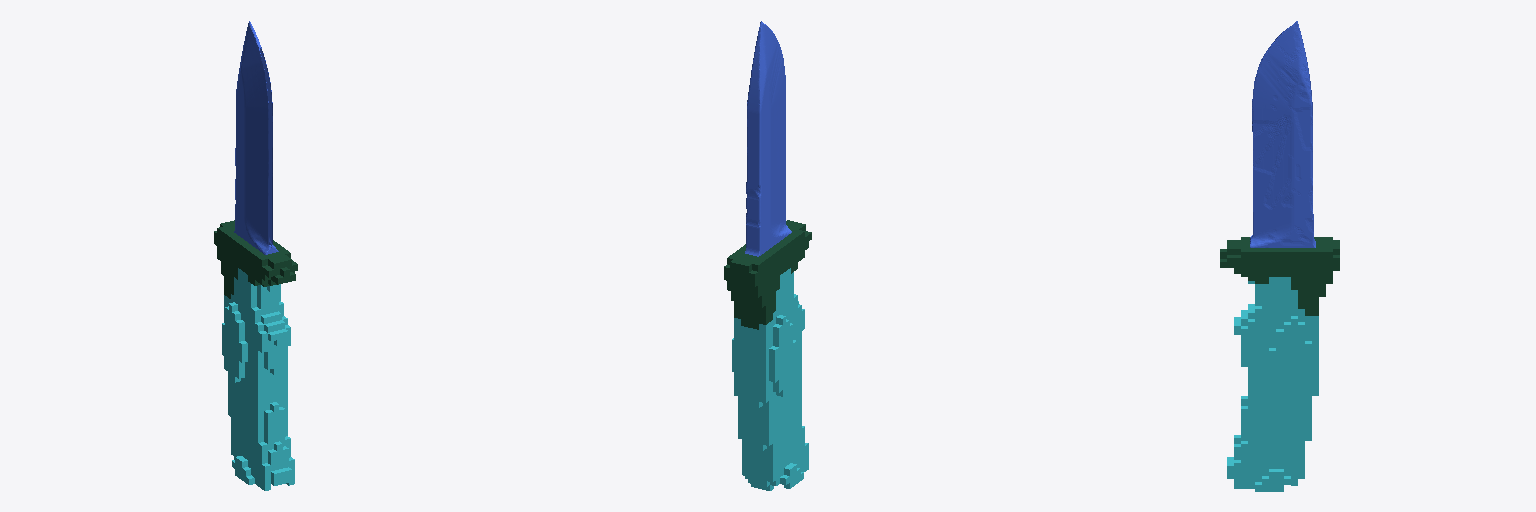
robot.urdf — physxnet_1014_strict:
<?xml version='1.0' encoding='utf-8'?>
<robot name="physxnet_1014_strict">
  <link name="l_world">
    <inertial>
      <origin xyz="0 0 0" rpy="0 0 0" />
      <mass value="0.0100000000" />
      <inertia ixx="0.0000001667" ixy="0.0" ixz="0.0" iyy="0.0000001667" iyz="0.0" izz="0.0000001667" />
    </inertial>
  </link><link name="l_0">
    <inertial>
      <origin xyz="-0.0000600824 0.0041301087 0.0682425245" rpy="0 0 0" />
      <mass value="0.0238738713" />
      <inertia ixx="0.0000439923" ixy="0.0" ixz="0.0" iyy="0.0000409983" iyz="0.0" izz="0.0000033399" />
    </inertial><visual>
      <origin xyz="0 0 0" rpy="0 0 0" />
      <geometry>
        <mesh filename="../rigid_visuals/part_000_visual.obj" scale="1 1 1" />
      </geometry><material name="mat_l_0">
        <color rgba="0.32548 0.48041 0.93131 1.00000" />
      </material>
    </visual><collision>
      <origin xyz="0 0 0" rpy="0 0 0" />
      <geometry>
        <mesh filename="part_000_collision.obj" scale="1 1 1" />
      </geometry>
    </collision>
  </link><joint name="joint_fixed_l_world_l_0" type="fixed">
    <parent link="l_world" />
    <child link="l_0" />
    <origin xyz="0 0 0" rpy="0 0 0" />
  </joint><link name="l_1">
    <inertial>
      <origin xyz="0.0000000000 0.0007280863 -0.0102970597" rpy="0 0 0" />
      <mass value="0.0008853841" />
      <inertia ixx="0.0000004033" ixy="0.0" ixz="0.0" iyy="0.0000001466" iyz="0.0" izz="0.0000003145" />
    </inertial><visual>
      <origin xyz="0 0 0" rpy="0 0 0" />
      <geometry>
        <mesh filename="../rigid_visuals/part_001_visual.obj" scale="1 1 1" />
      </geometry><material name="mat_l_1">
        <color rgba="0.15447 0.35718 0.26453 1.00000" />
      </material>
    </visual><collision>
      <origin xyz="0 0 0" rpy="0 0 0" />
      <geometry>
        <mesh filename="part_001_collision.obj" scale="1 1 1" />
      </geometry>
    </collision>
  </link><joint name="joint_fixed_l_0_l_1" type="fixed">
    <parent link="l_0" />
    <child link="l_1" />
    <origin xyz="0 0 0" rpy="0 0 0" />
  </joint><link name="l_2">
    <inertial>
      <origin xyz="0.0000000808 -0.0040965355 -0.0704715064" rpy="0 0 0" />
      <mass value="0.0022631696" />
      <inertia ixx="0.0000036949" ixy="0.0" ixz="0.0" iyy="0.0000033328" iyz="0.0" izz="0.0000005354" />
    </inertial><visual>
      <origin xyz="0 0 0" rpy="0 0 0" />
      <geometry>
        <mesh filename="../rigid_visuals/part_002_visual.obj" scale="1 1 1" />
      </geometry><material name="mat_l_2">
        <color rgba="0.29417 0.82410 0.87988 1.00000" />
      </material>
    </visual><collision>
      <origin xyz="0 0 0" rpy="0 0 0" />
      <geometry>
        <mesh filename="part_002_collision.obj" scale="1 1 1" />
      </geometry>
    </collision>
  </link><joint name="joint_fixed_l_1_l_2" type="fixed">
    <parent link="l_1" />
    <child link="l_2" />
    <origin xyz="0 0 0" rpy="0 0 0" />
  </joint><link name="l_3">
    <inertial>
      <origin xyz="-0.0000000000 -0.0113197399 -0.1416061723" rpy="0 0 0" />
      <mass value="0.0002673129" />
      <inertia ixx="0.0000000438" ixy="0.0" ixz="0.0" iyy="0.0000000166" iyz="0.0" izz="0.0000000479" />
    </inertial><visual>
      <origin xyz="0 0 0" rpy="0 0 0" />
      <geometry>
        <mesh filename="../rigid_visuals/part_003_visual.obj" scale="1 1 1" />
      </geometry><material name="mat_l_3">
        <color rgba="0.55944 0.19916 0.68114 1.00000" />
      </material>
    </visual><collision>
      <origin xyz="0 0 0" rpy="0 0 0" />
      <geometry>
        <mesh filename="part_003_collision.obj" scale="1 1 1" />
      </geometry>
    </collision>
  </link><joint name="joint_fixed_l_2_l_3" type="fixed">
    <parent link="l_2" />
    <child link="l_3" />
    <origin xyz="0 0 0" rpy="0 0 0" />
  </joint>
</robot>

--- What the picture shows (computed from the rendered views, not written in the file) ---
The picture shows the robot from 3 angles, left to right: view 1: azimuth 30°, elevation 25°; view 2: azimuth 150°, elevation 25°; view 3: azimuth 270°, elevation 25°; orthographic projection.
Robot: physxnet_1014_strict — 5 links, 4 joints (4 fixed); root link l_world; default pose: every joint at zero.
Links seen in each view (by area): view 1: l_2, l_0, l_1; view 2: l_2, l_0, l_1; view 3: l_2, l_0, l_1.
Boxes of the visible links, x1,y1,x2,y2 form: l_2: [222, 268, 294, 490]; l_0: [234, 21, 278, 254]; l_1: [214, 220, 297, 298]; l_2: [732, 268, 808, 490]; l_0: [745, 21, 791, 256]; l_1: [724, 220, 811, 329]; l_2: [1227, 277, 1318, 491]; l_0: [1250, 21, 1315, 247]; l_1: [1220, 237, 1339, 315].
Size in the robot's own frame: 0.028 by 0.068 by 0.288 metres.
Meshes: 4 distinct files referenced, 3 mesh visuals loaded (3 OBJ); not drawn: 1 (reference not matched to a file when rendering).
